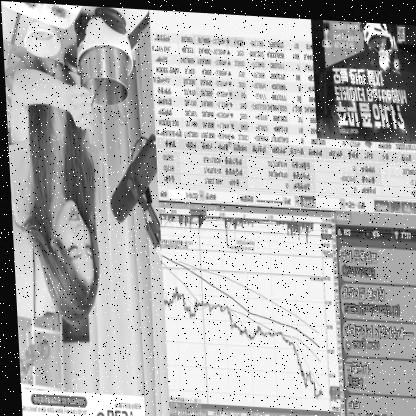streamer: (1, 30, 109, 326)
